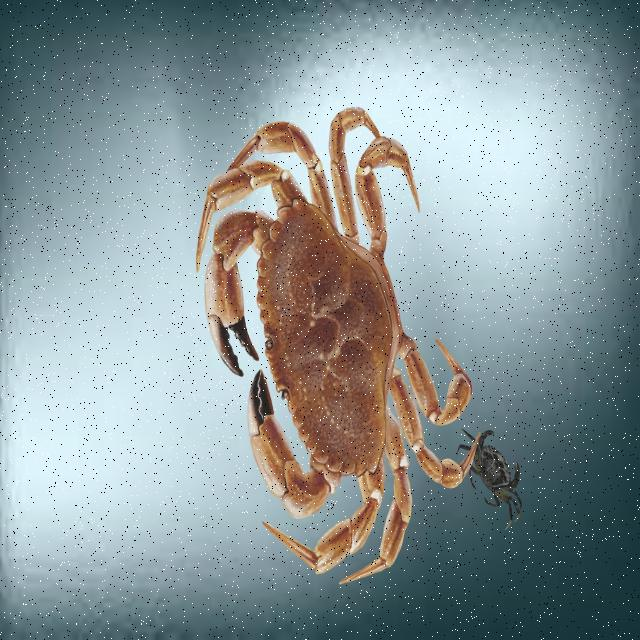European_Green_Crab: (447, 404, 537, 537)
